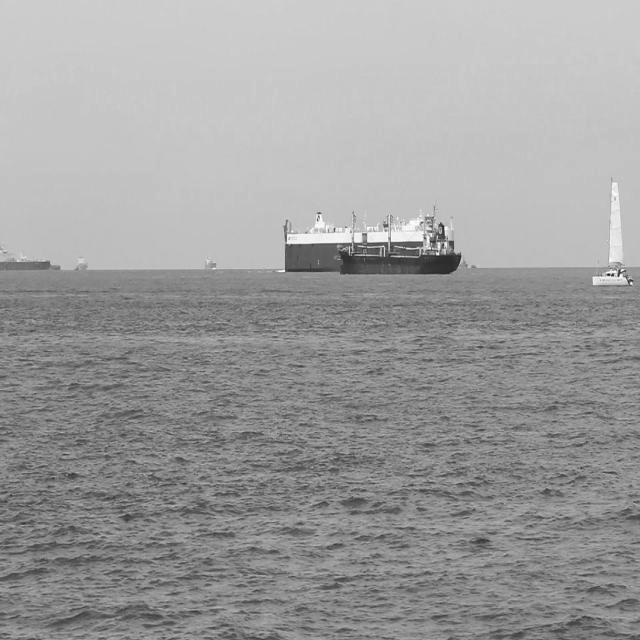ship: (281, 204, 457, 275), (334, 197, 466, 278), (592, 168, 636, 288), (0, 246, 53, 274), (71, 250, 90, 274), (204, 252, 218, 273), (460, 252, 470, 273)
